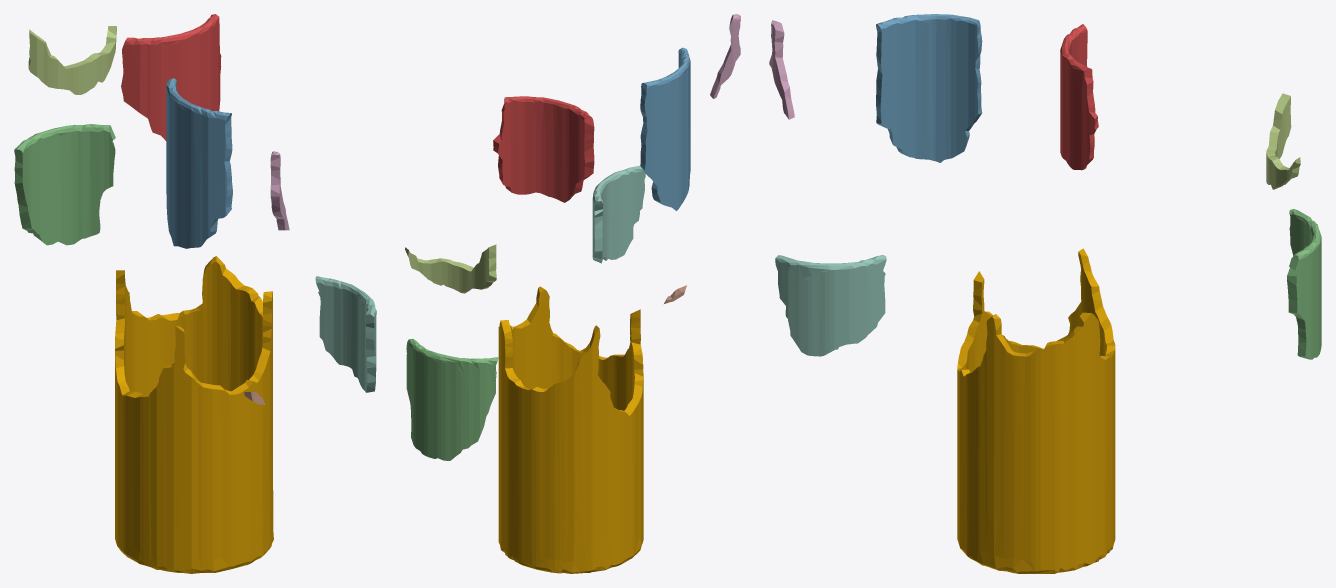
Rendered from mode_11_8pcs_transformed.glb.
3 renders of one model, left to right at view 1: azimuth 30°, elevation 25°; view 2: azimuth 150°, elevation 25°; view 3: azimuth 270°, elevation 25°, orthographic. The views are drawn at different scales.
Parts seen in each view (by area): view 1: piece_0.obj, piece_3.obj, piece_2.obj, piece_1.obj, piece_4.obj, piece_5.obj, piece_6.obj; view 2: piece_0.obj, piece_1.obj, piece_3.obj, piece_2.obj, piece_4.obj, piece_5.obj, piece_6.obj; view 3: piece_0.obj, piece_2.obj, piece_4.obj, piece_1.obj, piece_3.obj, piece_5.obj, piece_6.obj.
Boxes of the visible parts, box(x1,y1,x2,y2) form: piece_0.obj: box(115, 256, 273, 573); piece_3.obj: box(14, 124, 115, 245); piece_2.obj: box(166, 78, 232, 248); piece_1.obj: box(121, 14, 221, 140); piece_4.obj: box(315, 276, 376, 392); piece_5.obj: box(28, 26, 116, 94); piece_6.obj: box(270, 151, 289, 230); piece_0.obj: box(498, 286, 643, 573); piece_1.obj: box(493, 96, 594, 202); piece_3.obj: box(406, 339, 498, 460); piece_2.obj: box(640, 47, 690, 210); piece_4.obj: box(592, 165, 645, 263); piece_5.obj: box(405, 244, 496, 293); piece_6.obj: box(710, 14, 740, 98); piece_0.obj: box(957, 248, 1115, 573); piece_2.obj: box(876, 14, 982, 162); piece_4.obj: box(775, 255, 886, 356); piece_1.obj: box(1060, 24, 1098, 170); piece_3.obj: box(1287, 209, 1321, 359); piece_5.obj: box(1266, 93, 1300, 189); piece_6.obj: box(769, 20, 794, 119).
Size of the model in its own units: 0.4605 by 1.6 by 1.61.
